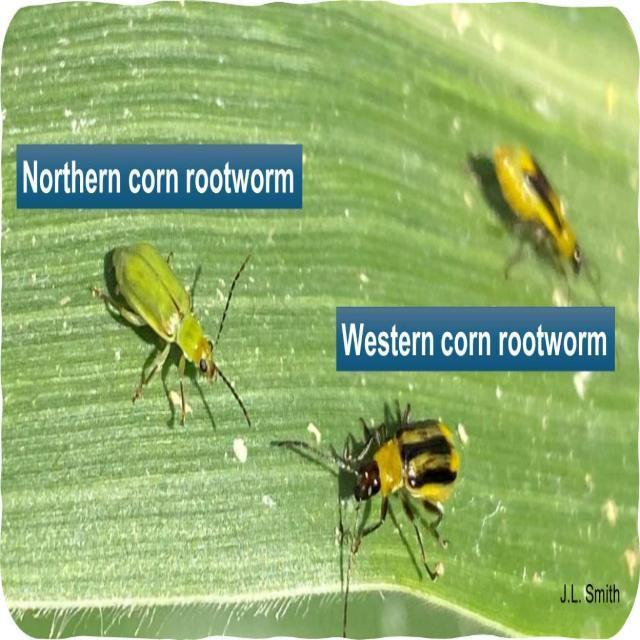gusano_gris: (91, 212, 249, 443)
trips: (296, 402, 530, 556), (478, 128, 612, 294)
